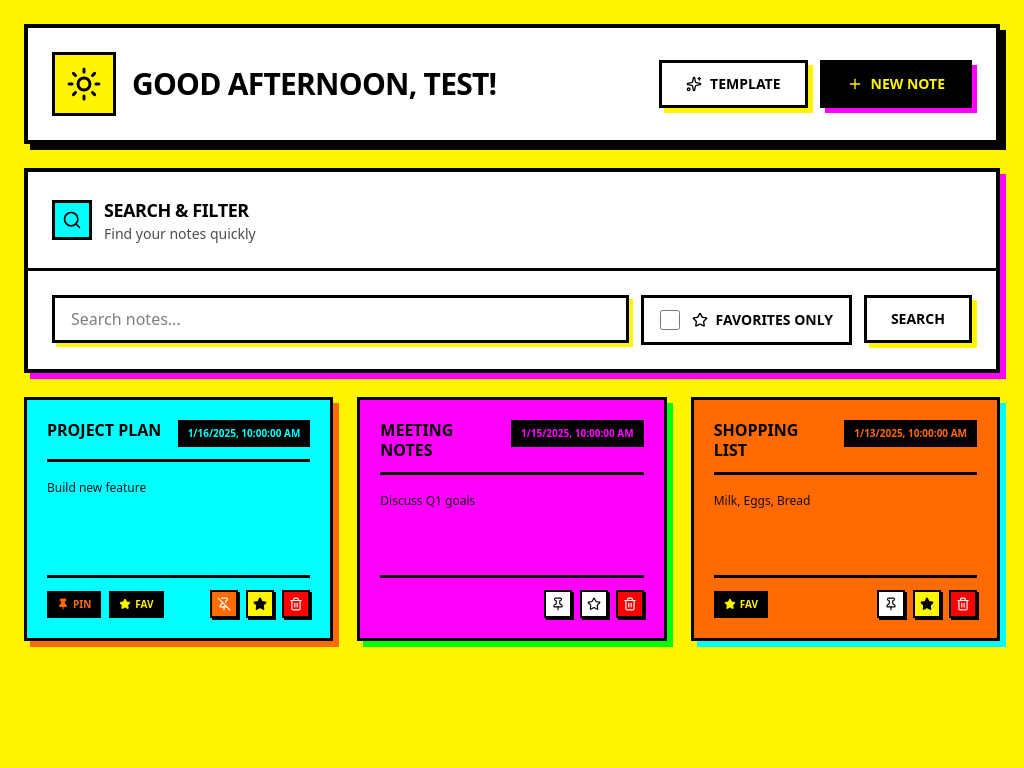
Dashboard - Functional Tests › Delete Functionality › should delete a note successfully
expect the heading "Meeting Notes" is shown: met, box [380, 419, 453, 461]
Step 1. Click the button named "delete note" below "Discuss Q1 goals" → [630, 604], box [616, 590, 644, 618]
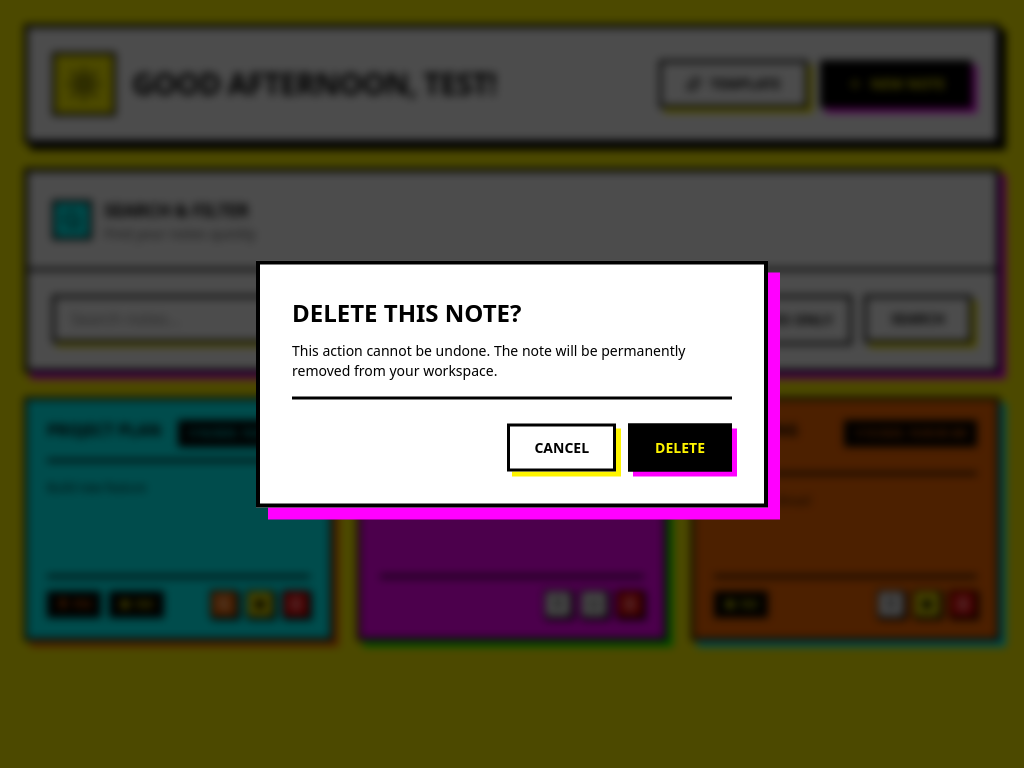
expect the heading "Delete This Note?" is shown: met, box [292, 296, 522, 328]
Step 2. Click the button "Delete" → [680, 448], box [628, 424, 732, 472]
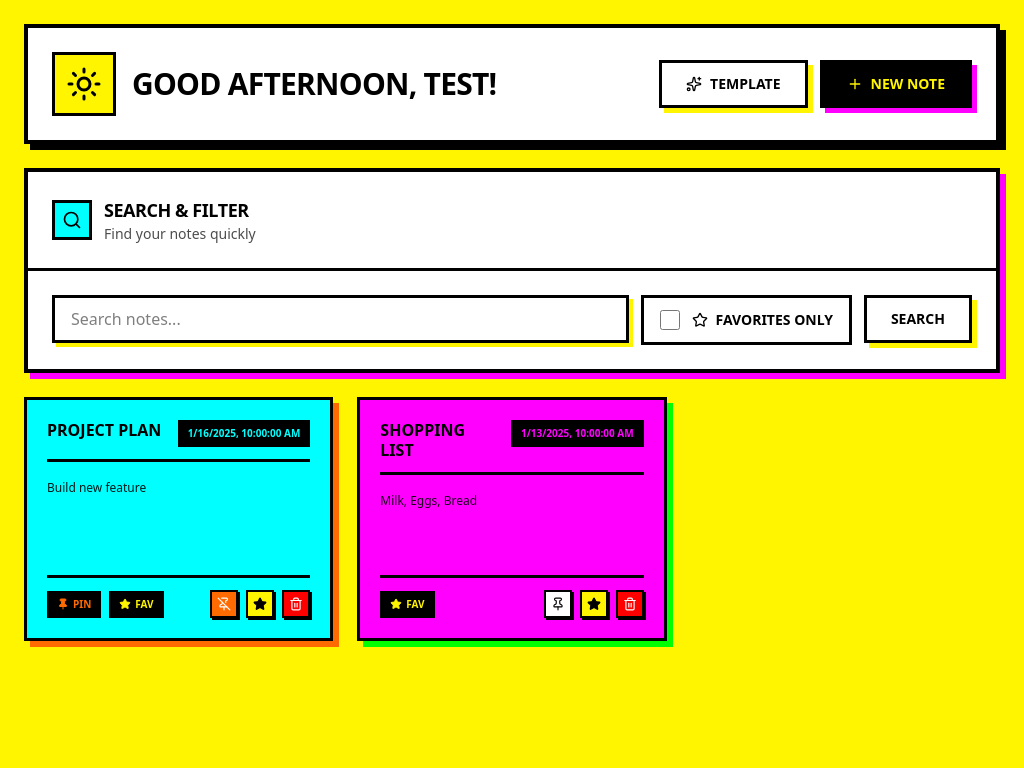
expect the link "Meeting Notes" is gone: met
